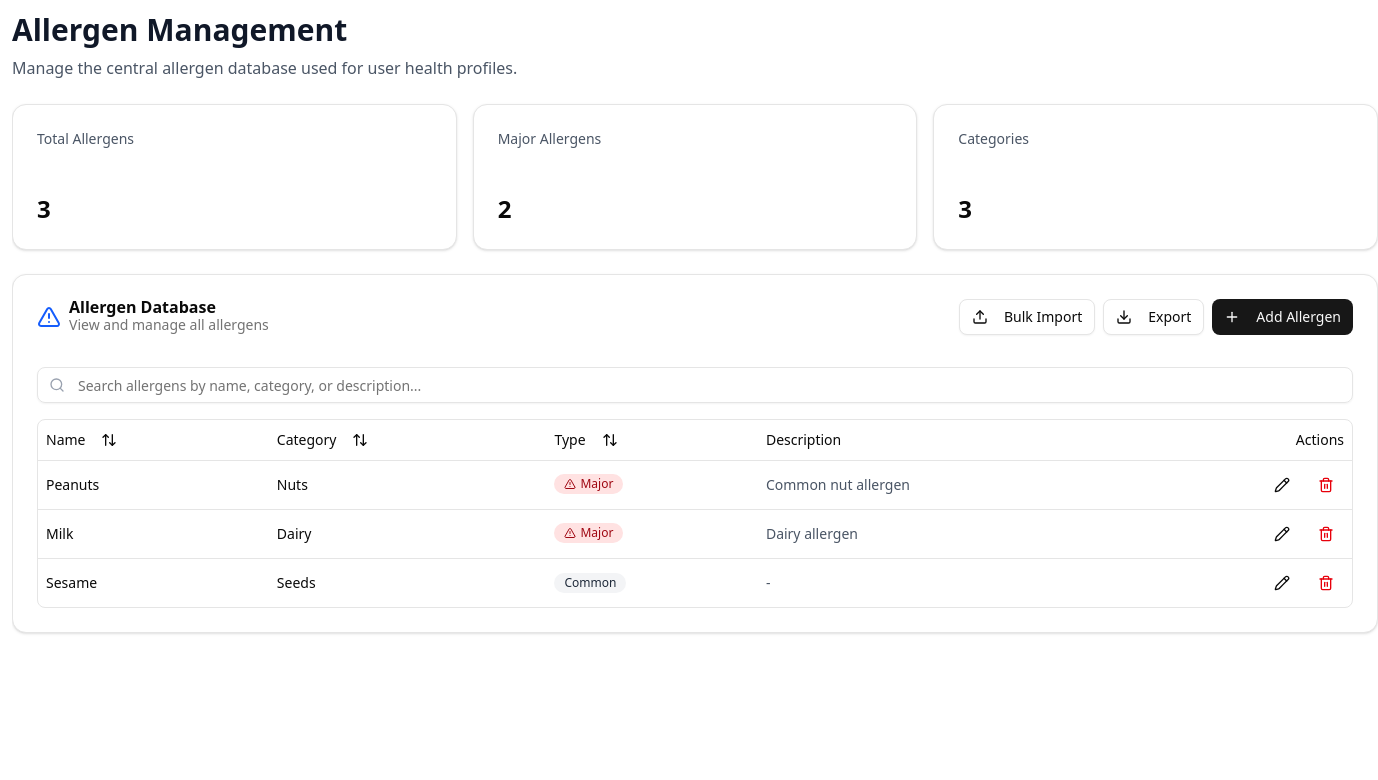
Test case: AllergenManagement › filters allergens by description
Expected: the text "Peanuts" is shown, left=46, top=474, right=99, bottom=494
Type "Common nut" into the field with placeholder "Search allergens by name, category, or description...". click: (695, 385)
box: left=37, top=367, right=1353, bottom=403
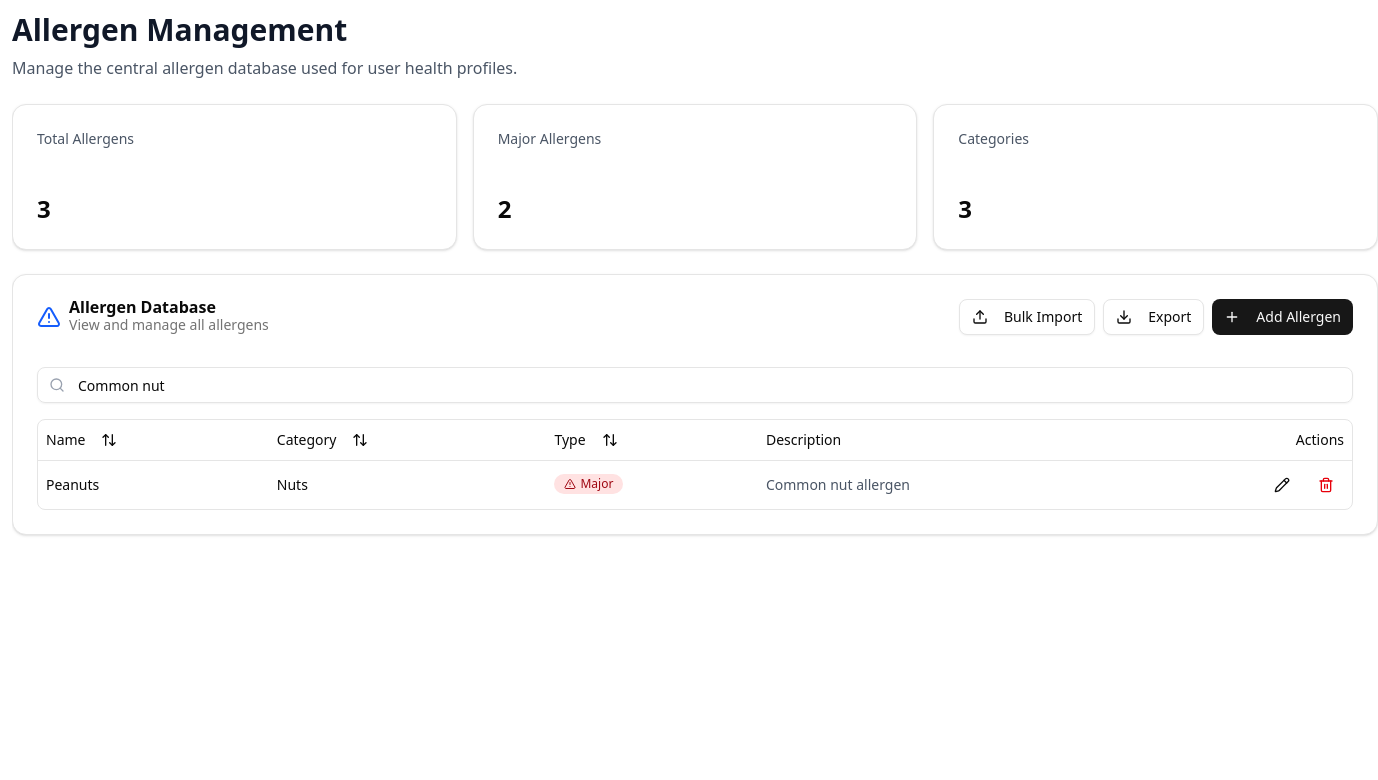
Expected: the text "Peanuts" is shown, left=46, top=474, right=99, bottom=494
Now the text "Milk" is gone
